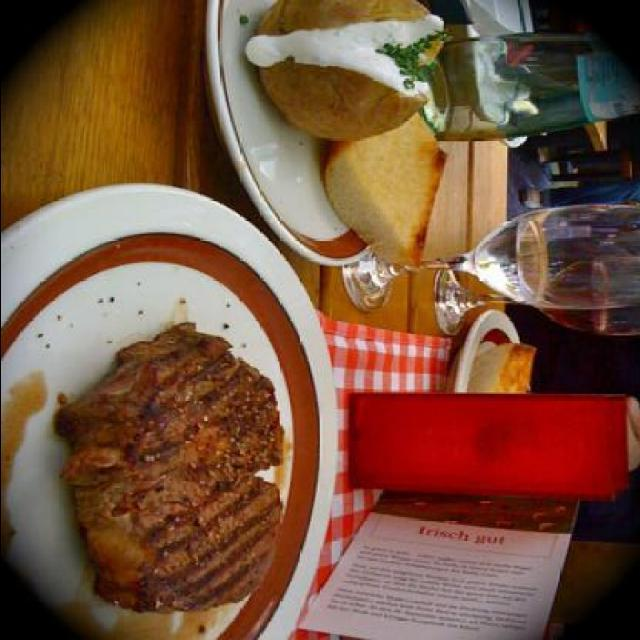Steak: (56, 312, 314, 610)
